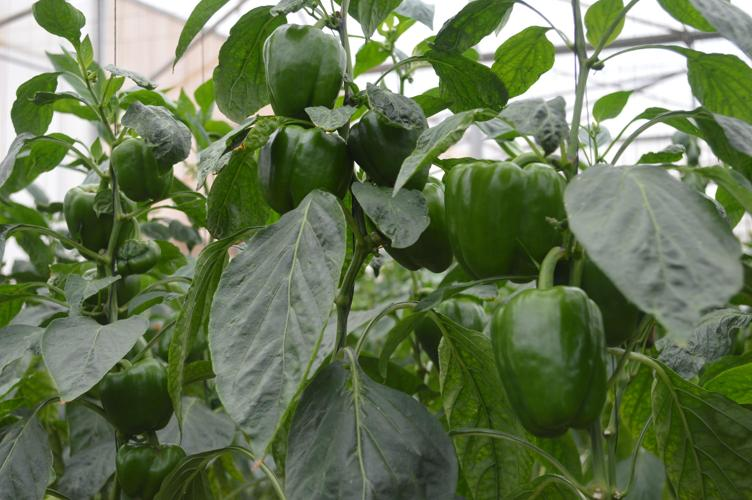BellPepper: (491, 286, 605, 436), (442, 160, 563, 280), (258, 126, 349, 206), (257, 26, 341, 112), (369, 189, 452, 274), (349, 106, 432, 183), (93, 362, 172, 430), (60, 187, 124, 254), (107, 138, 169, 197), (107, 445, 179, 495), (421, 297, 478, 355)
